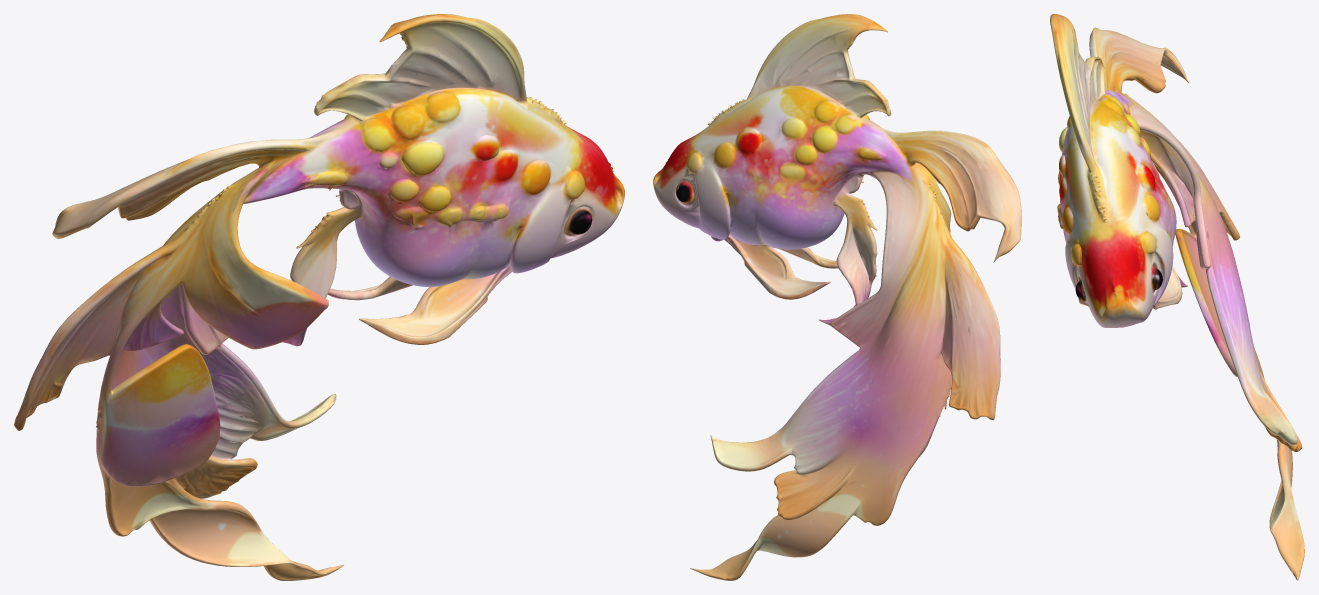
File: koi.glb
3 views of the same model, side by side, from view 1: azimuth 30°, elevation 25°; view 2: azimuth 150°, elevation 25°; view 3: azimuth 270°, elevation 25° (orthographic). The views are drawn at different scales.
Parts seen in each view (by area): view 1: material; view 2: material; view 3: material.
Boxes of the visible parts, x1,y1,x2,y2 form: material: (14,14,624,580); material: (653,14,1021,580); material: (1050,14,1304,580).
Size of the model in its own units: 0.8788 by 1.07 by 0.4616.
1 material, 1 textured.
